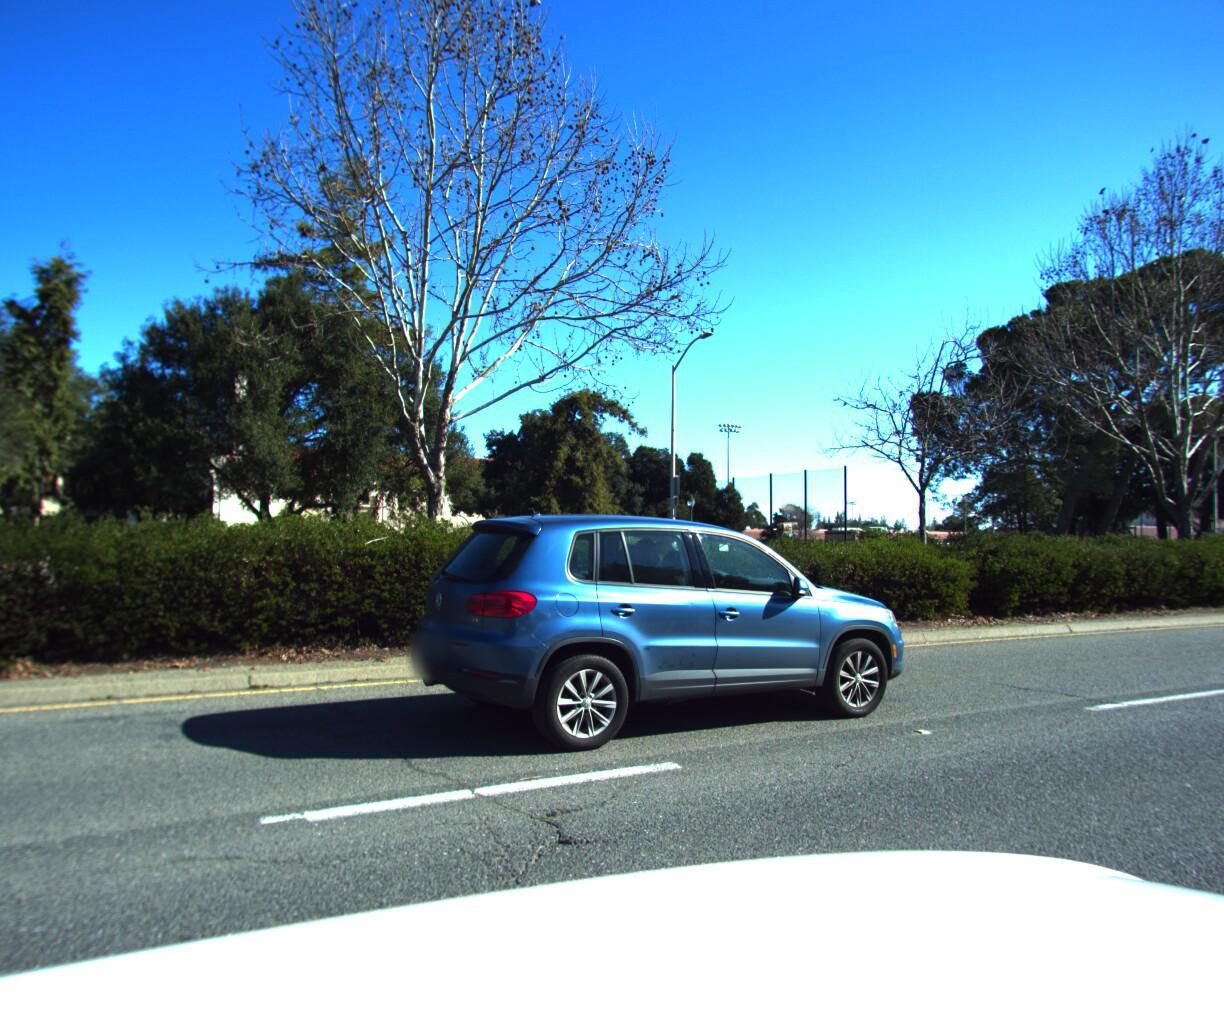car: (394, 500, 940, 770)
